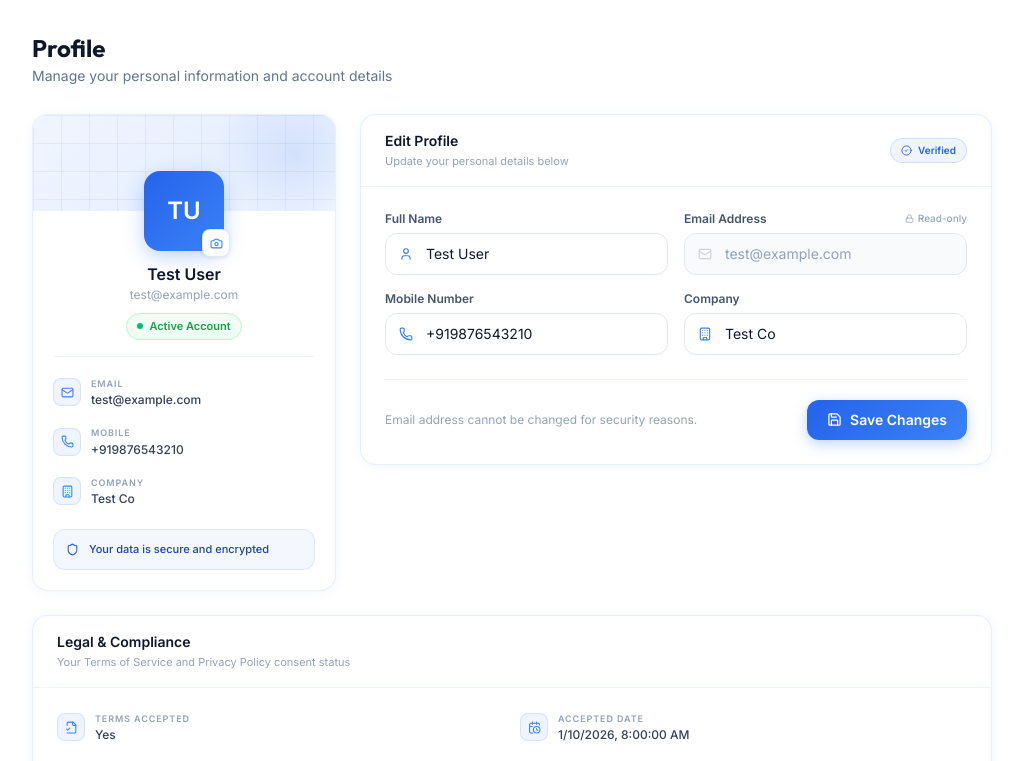
Scenario: Profile Page › Save profile — API success › shows loading state on Save Changes button while saving
Click the button "Save Changes": coordinates (887, 420) x1=807 y1=400 x2=967 y2=440
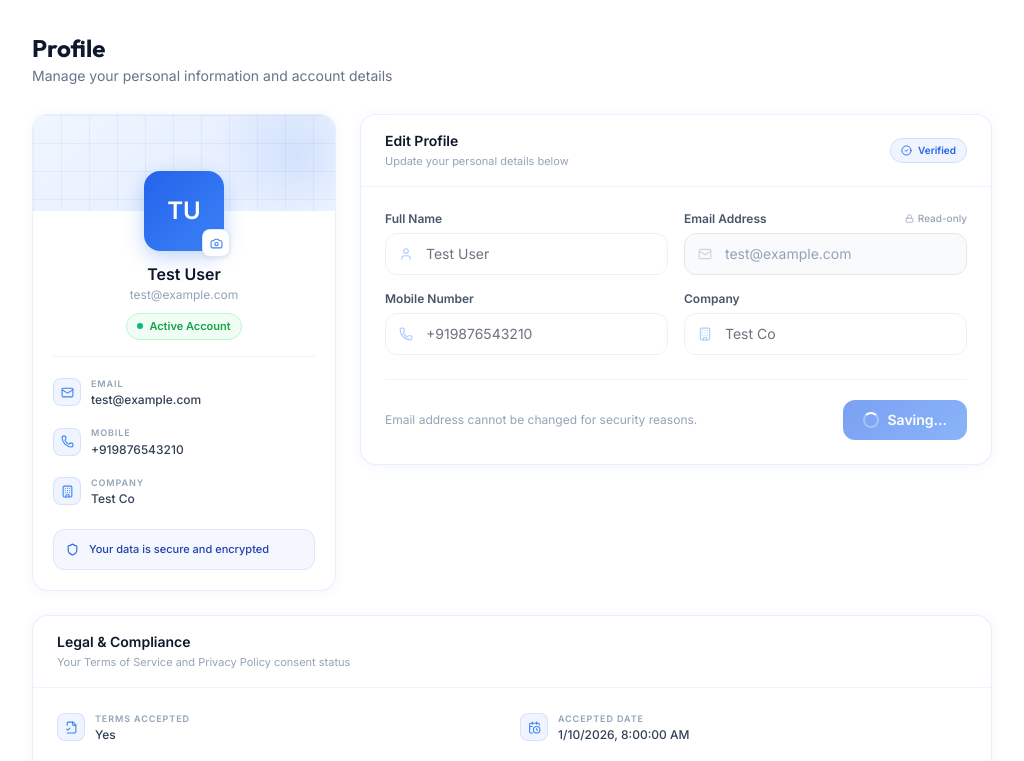
Expected: the button "Saving..." is shown, x1=844 y1=400 x2=967 y2=440
